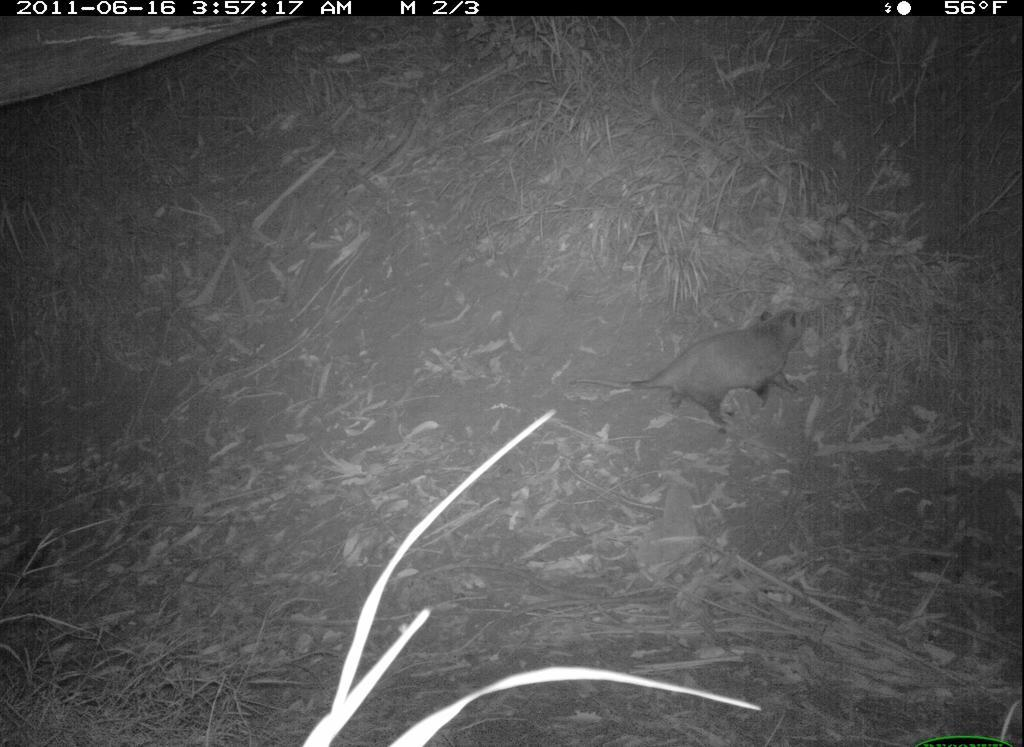opossum: (565, 304, 827, 452)
